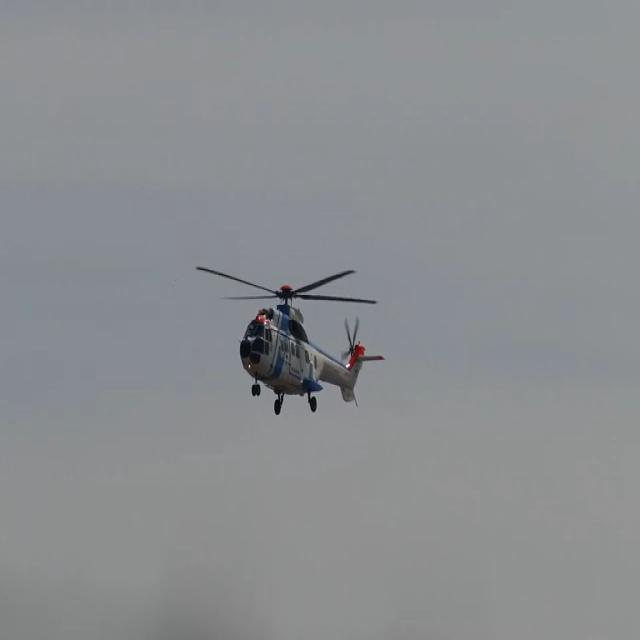Helicopter: (170, 250, 404, 427)
